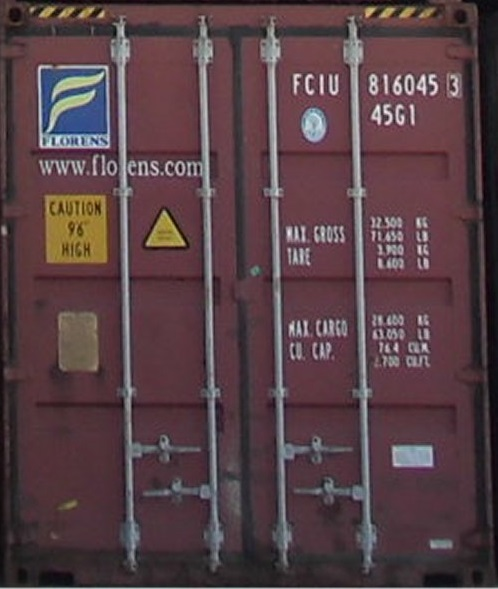container_door: (15, 6, 486, 580)
